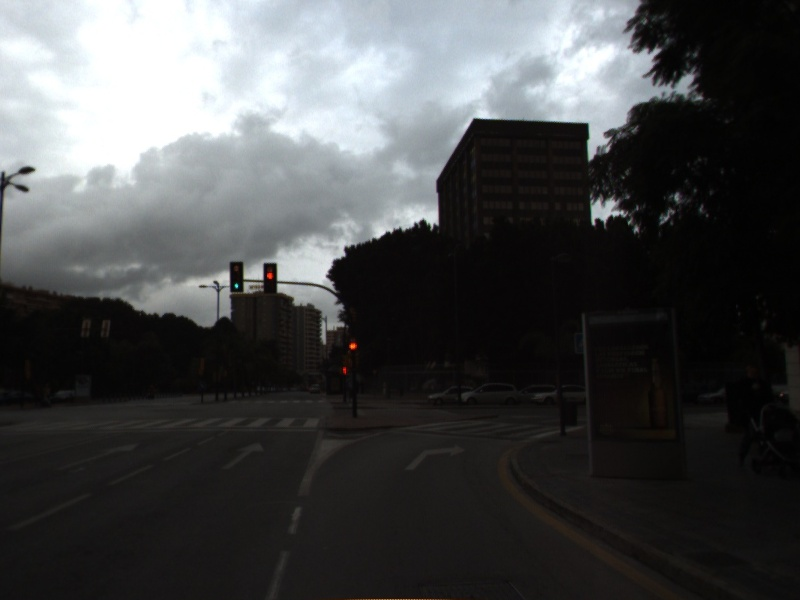RIGHT: (402, 441, 468, 472)
STRAIGHT: (54, 440, 142, 472), (218, 439, 267, 472)
